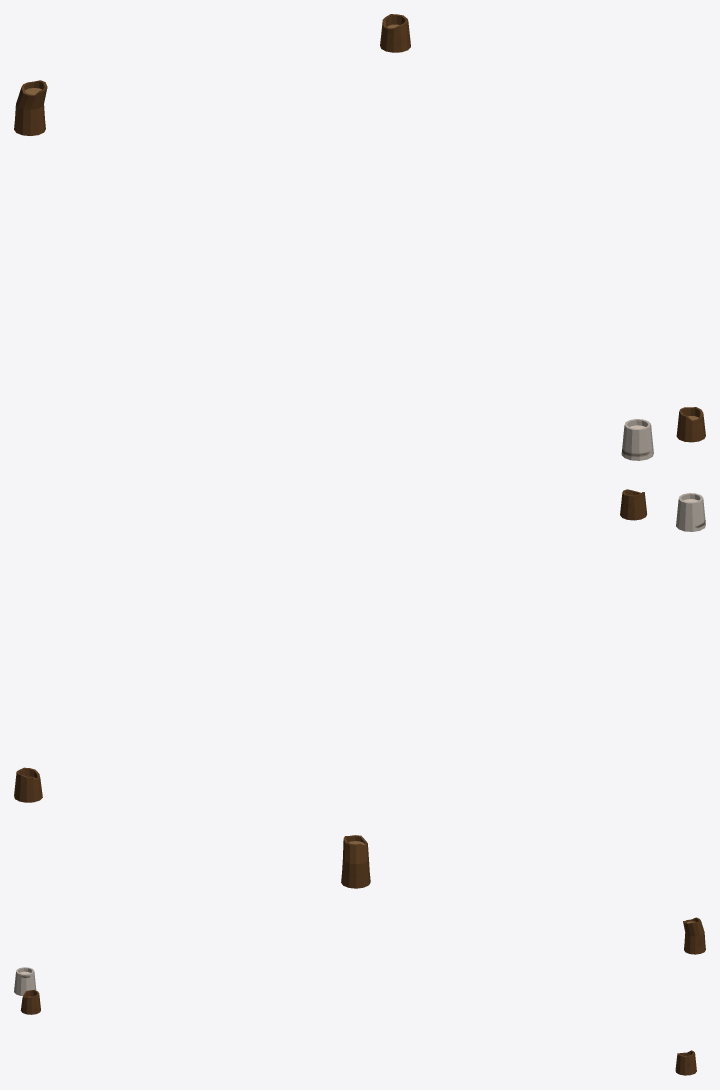
File: Trunks13.gltf
3 views of the same model, one above another, from view 1: azimuth 30°, elevation 25°; view 2: azimuth 150°, elevation 25°; view 3: azimuth 270°, elevation 25° (orthographic). The views are drawn at different scales.
Parts seen in each view (by area): view 1: Trunk3 - copy.011, Trunk2 - copy.006, Trunk4 - copy.014, Trunk4 - copy.013; view 2: Trunk3 - copy.011, Trunk2 - copy.006, Trunk4 - copy.014, Trunk4 - copy.013; view 3: Trunk3 - copy.011, Trunk2 - copy.006, Trunk4 - copy.014, Trunk4 - copy.013.
Boxes of the visible parts, box(x1,y1,x2,y2) form: Trunk3 - copy.011: box(14, 80, 47, 135); Trunk2 - copy.006: box(621, 419, 653, 460); Trunk4 - copy.014: box(380, 14, 410, 52); Trunk4 - copy.013: box(676, 407, 705, 442); Trunk3 - copy.011: box(341, 835, 370, 888); Trunk2 - copy.006: box(676, 493, 705, 531); Trunk4 - copy.014: box(14, 767, 42, 802); Trunk4 - copy.013: box(620, 489, 646, 520); Trunk3 - copy.011: box(683, 917, 705, 954); Trunk2 - copy.006: box(14, 967, 36, 995); Trunk4 - copy.014: box(675, 1050, 696, 1075); Trunk4 - copy.013: box(20, 989, 40, 1014).
Bounding box in the file's own units: 7.4 × 0.8306 × 16.59.
3 materials, 3 textured.
